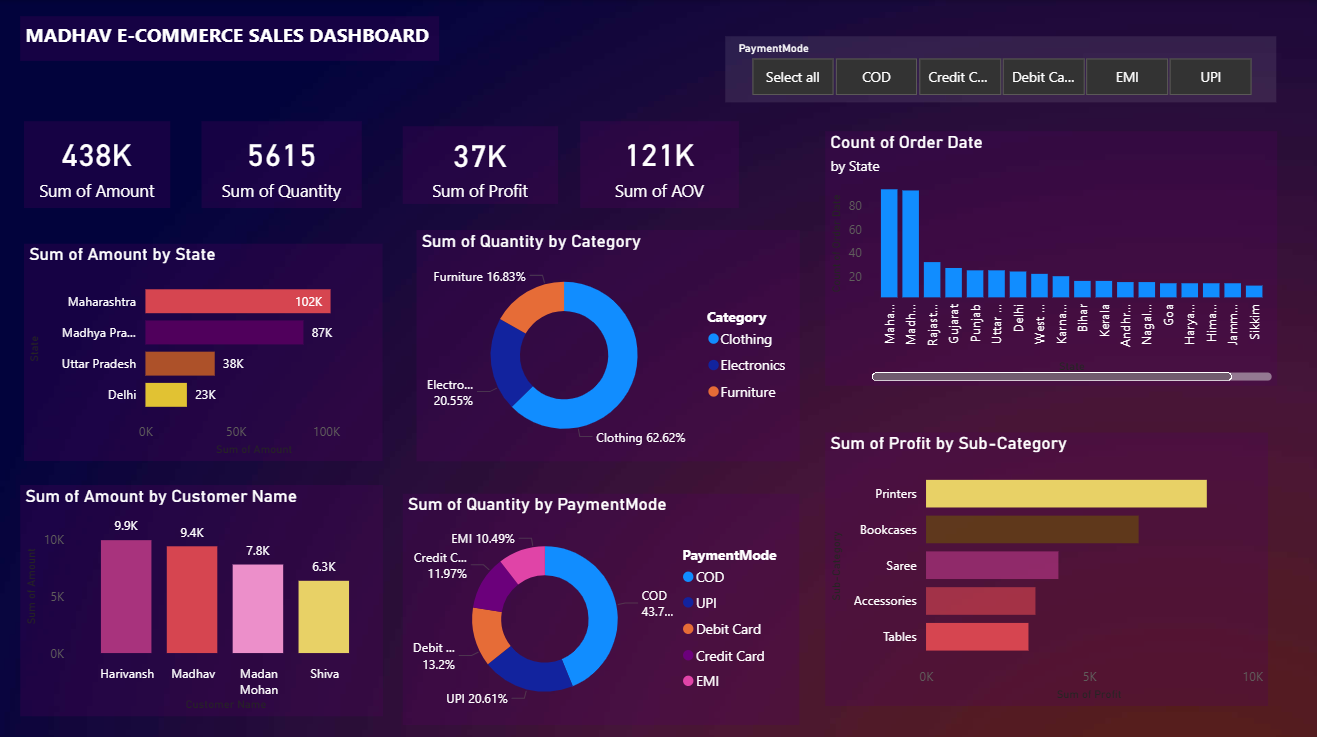

This screenshot's page, from the dashboard's own definition file:
{"tool":"powerbi","page":{"name":"Page 1","canvas":[1280,720],"ordinal":0},"visuals":[{"type":"textbox","box":[20,15.7,405.7,42.9],"z":0},{"type":"columnChart","fields":{"Category":["Orders.State"],"Y":["Orders.Order Date"]},"box":[800,127.5,437.5,246.2],"z":1000},{"type":"clusteredBarChart","fields":{"Category":["Details.Sub-Category"],"Y":["Details.Profit"]},"box":[800,418.8,428.8,265],"z":2000},{"type":"donutChart","fields":{"Category":["Details.Category"],"Y":["Details.Quantity"]},"box":[403.8,222.5,371.2,223.8],"z":2001},{"type":"donutChart","fields":{"Y":["Details.Quantity"],"Category":["Details.PaymentMode"]},"box":[391.2,478.8,383.8,223.8],"z":2002},{"type":"card","fields":{"Values":["Details.Amount"]},"box":[23.8,117.5,141.2,83.8],"z":2003},{"type":"card","fields":{"Values":["Details.Quantity"]},"box":[196.2,117.5,155,83.8],"z":2004},{"type":"card","fields":{"Values":["Details.Profit"]},"box":[391.2,122.5,150,75],"z":2005},{"type":"card","fields":{"Values":["Details.AOV"]},"box":[562.5,117.5,153.8,83.8],"z":2006},{"type":"clusteredBarChart","fields":{"Category":["Orders.State"],"Y":["Details.Amount"]},"box":[23.8,236.2,347.5,210],"z":2007},{"type":"clusteredColumnChart","fields":{"Y":["Details.Amount"],"Category":["Orders.Order Name"]},"box":[20,470,351.2,223.8],"z":2008},{"type":"slicer","fields":{"Values":["Details.PaymentMode"]},"box":[703.8,35,533.8,63.8],"z":2009}]}

Visuals, with their boxes in screenshot pixels (x1, y1, x2, y2), scaled from the page's 1280x720 canvas onto the 1317x737 screenshot:
textbox: bbox=(21, 16, 438, 60)
columnChart - Orders.State x Orders.Order Date: bbox=(823, 131, 1273, 383)
clusteredBarChart - Details.Sub-Category x Details.Profit: bbox=(823, 429, 1264, 700)
donutChart - Details.Category x Details.Quantity: bbox=(415, 228, 797, 457)
donutChart - Details.Quantity x Details.PaymentMode: bbox=(403, 490, 797, 719)
card - Details.Amount: bbox=(24, 120, 170, 206)
card - Details.Quantity: bbox=(202, 120, 361, 206)
card - Details.Profit: bbox=(403, 125, 557, 202)
card - Details.AOV: bbox=(579, 120, 737, 206)
clusteredBarChart - Orders.State x Details.Amount: bbox=(24, 242, 382, 457)
clusteredColumnChart - Details.Amount x Orders.Order Name: bbox=(21, 481, 382, 710)
slicer - Details.PaymentMode: bbox=(724, 36, 1273, 101)
